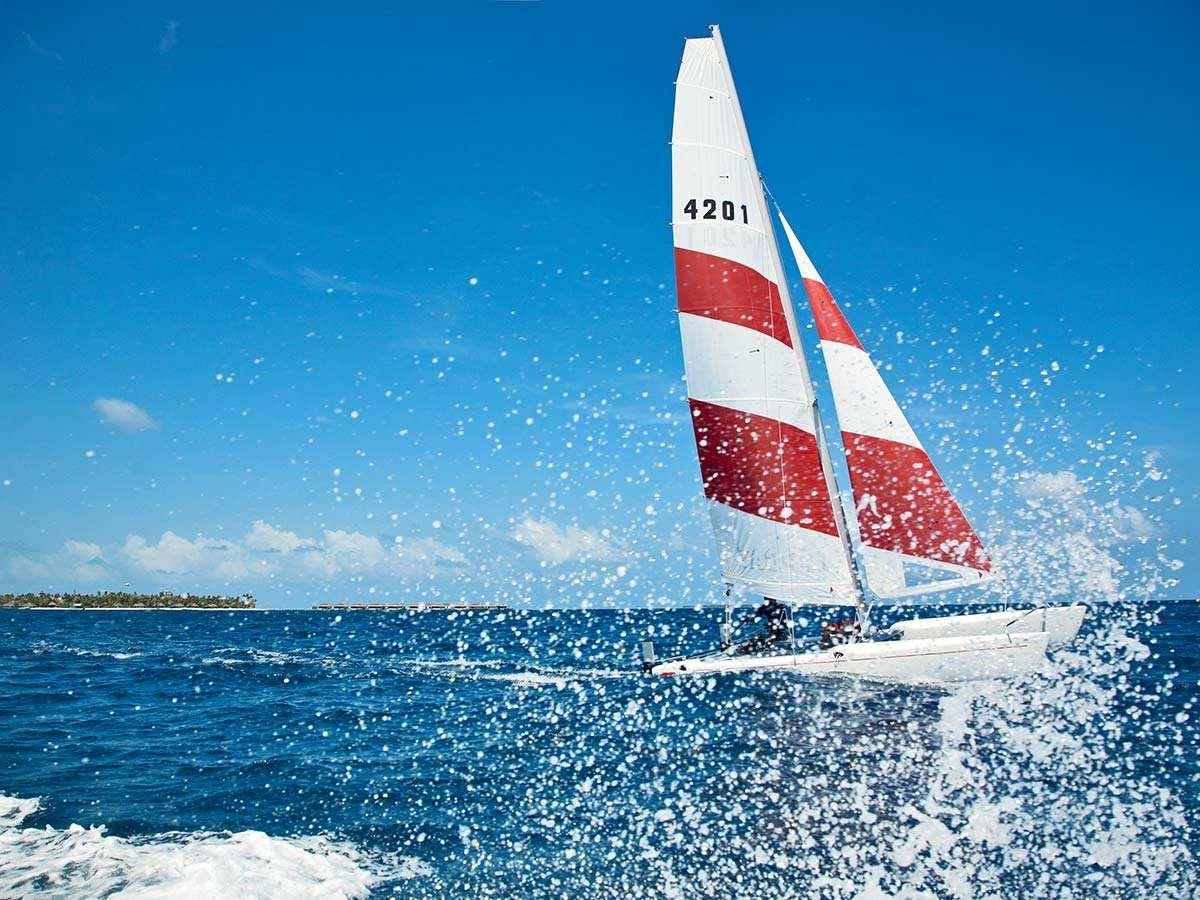fanchuan: (626, 29, 1083, 692)
